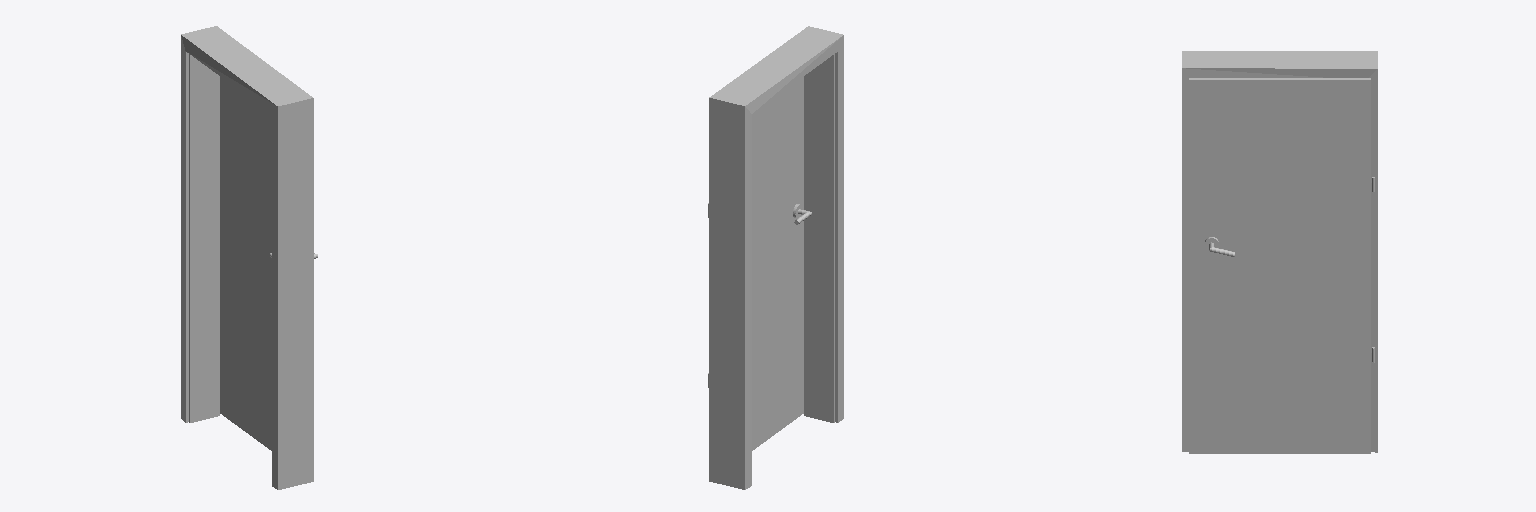
File: door87.obj
3 views of the same model, side by side, from view 1: azimuth 30°, elevation 25°; view 2: azimuth 150°, elevation 25°; view 3: azimuth 270°, elevation 25° (orthographic).
Parts seen in each view (by area): view 1: Cylinder.005, Cylinder.001; view 2: Cylinder.005, Cylinder.001; view 3: Cylinder.001, Cylinder.005.
Part boxes in pixels (left/top/right/bottom): Cylinder.005: left=181, top=26, right=313, bottom=489; Cylinder.001: left=220, top=77, right=271, bottom=450; Cylinder.005: left=708, top=26, right=843, bottom=489; Cylinder.001: left=708, top=77, right=803, bottom=450; Cylinder.001: left=1189, top=78, right=1374, bottom=453; Cylinder.005: left=1182, top=51, right=1377, bottom=452.
Bounding box in the file's own units: 0.3039 × 2.05 × 0.95.